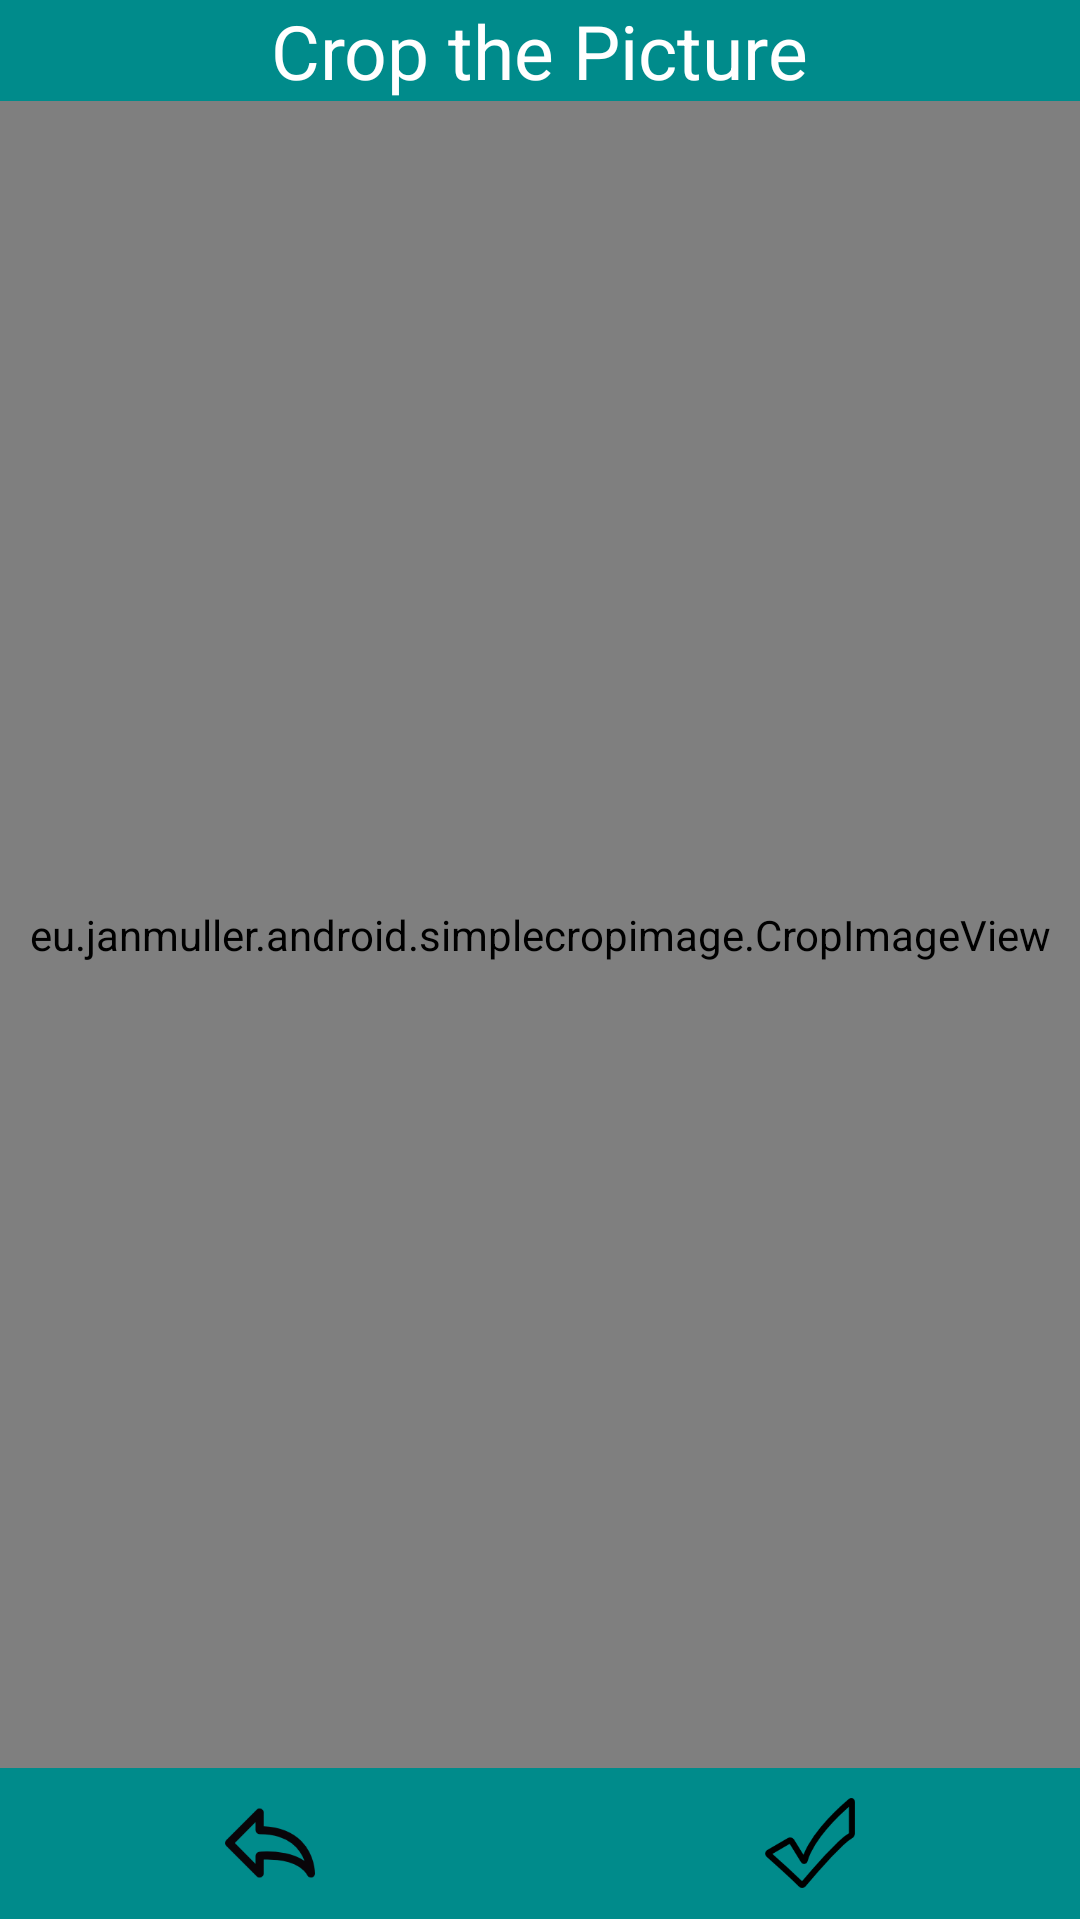

Screen size 1080x1920. Icon name, then its box in pixels as box=[x1, y1, x2, y2]:
back: box=[225, 1808, 315, 1878]
